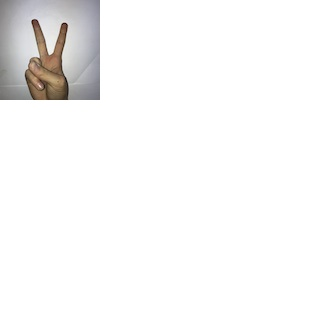scissors: (19, 15, 74, 99)
